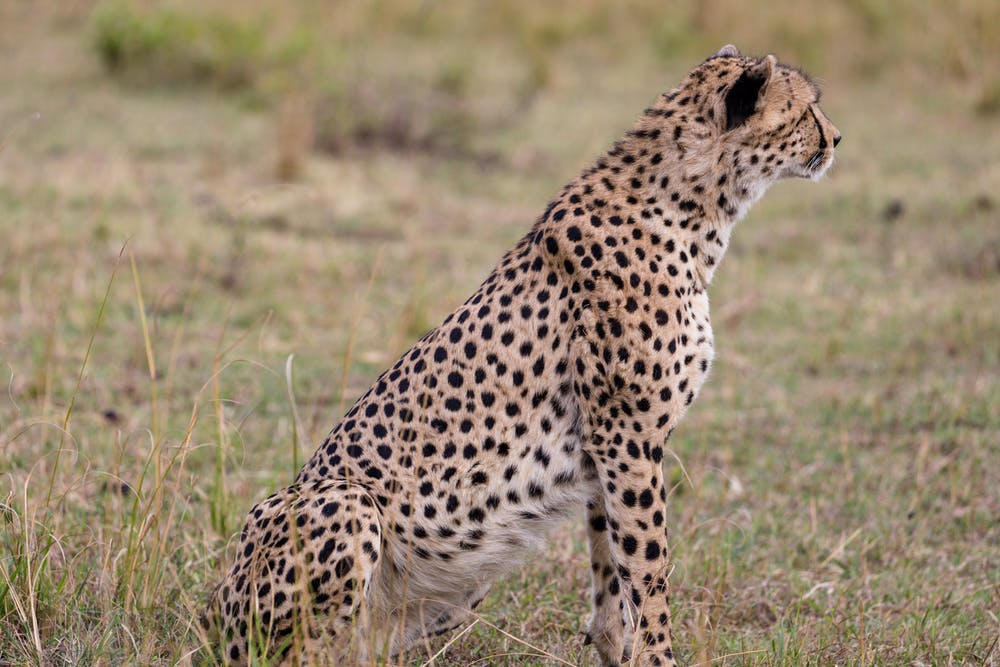cheetah: (674, 28, 863, 192)
